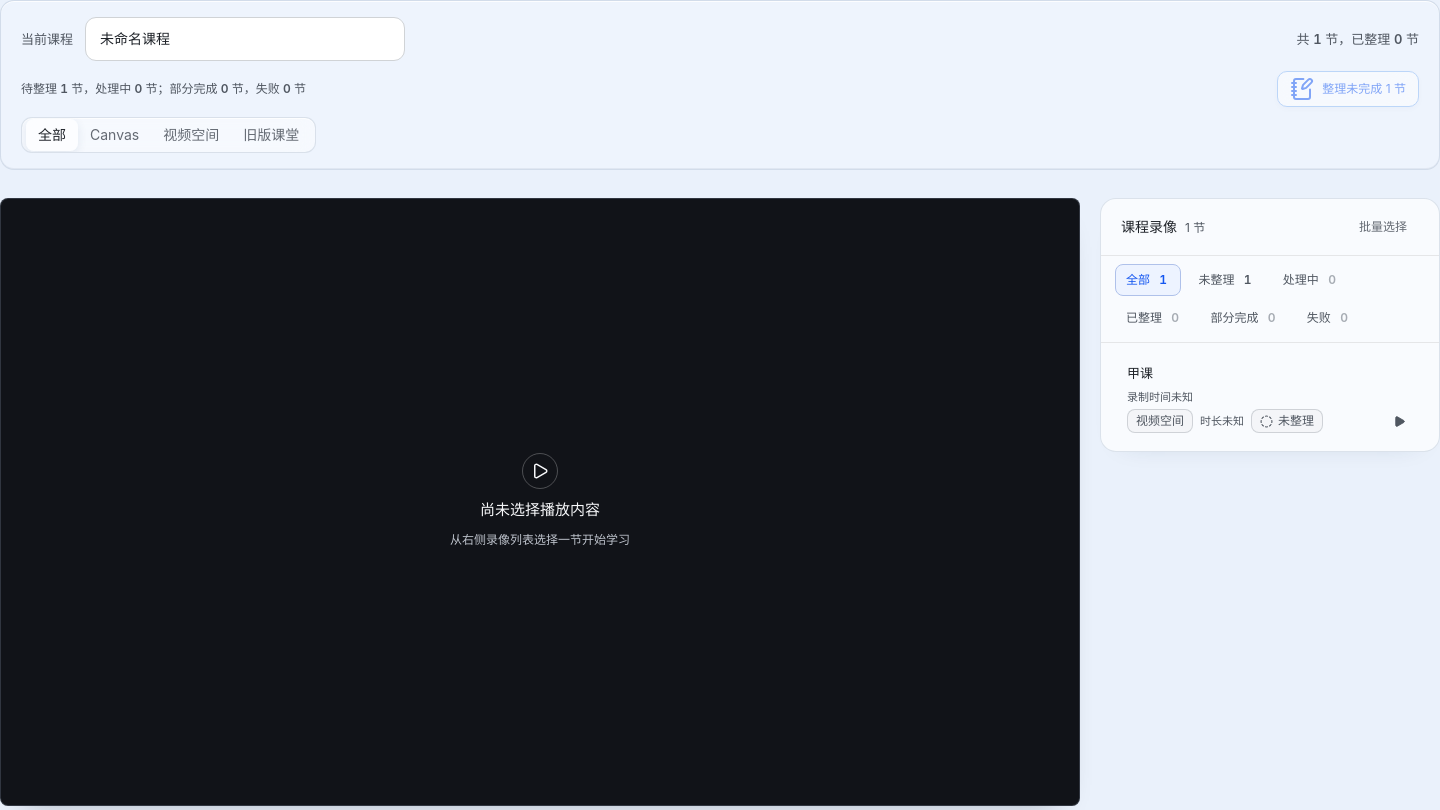
Test: video action capabilities and isolation › does not start automatic AI if obtaining the playback address fails
Click the button named "播放 甲课".
click(1270, 397)  # box [1107,349,1433,445]
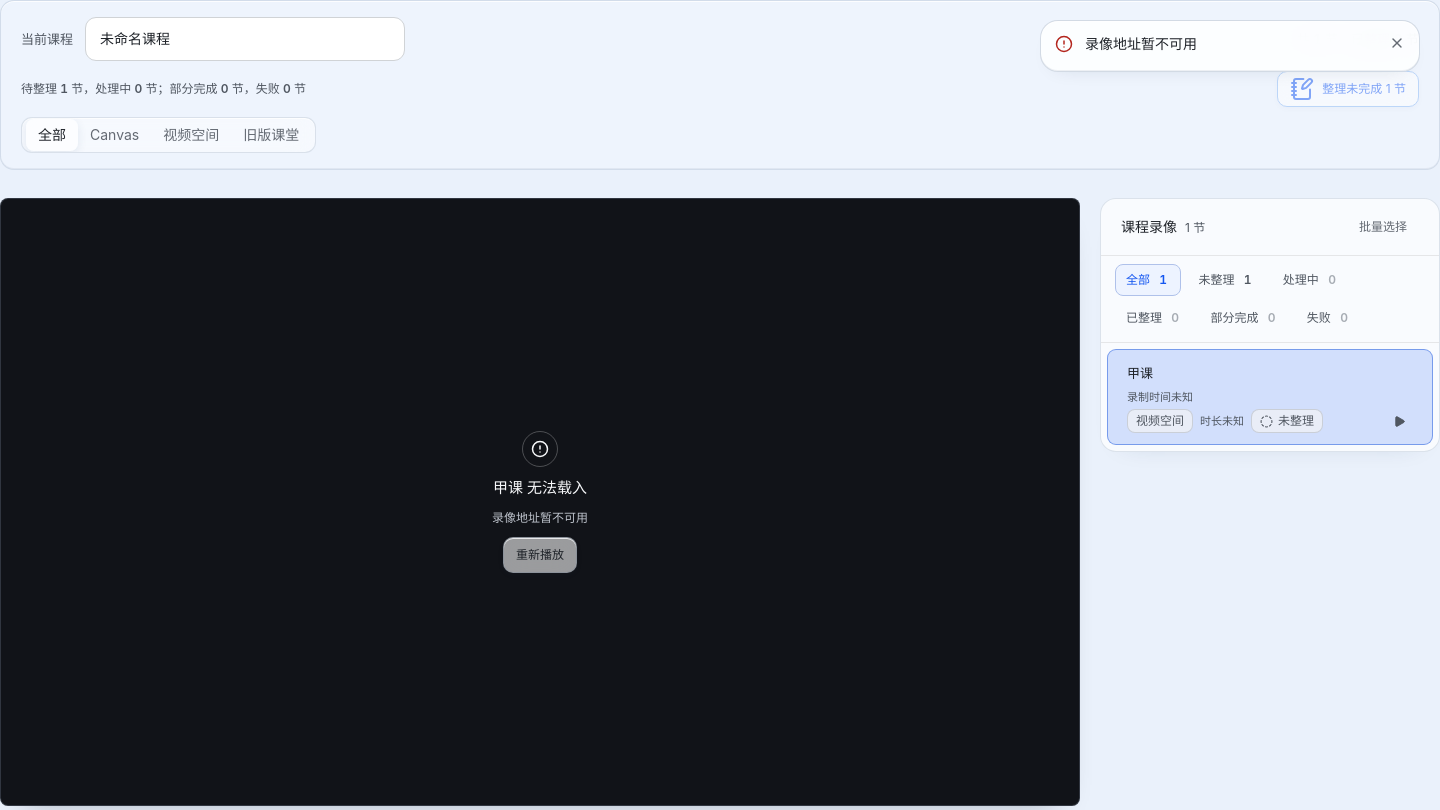
Now the text "甲课 无法载入" is shown, box [493,477,587,499]
